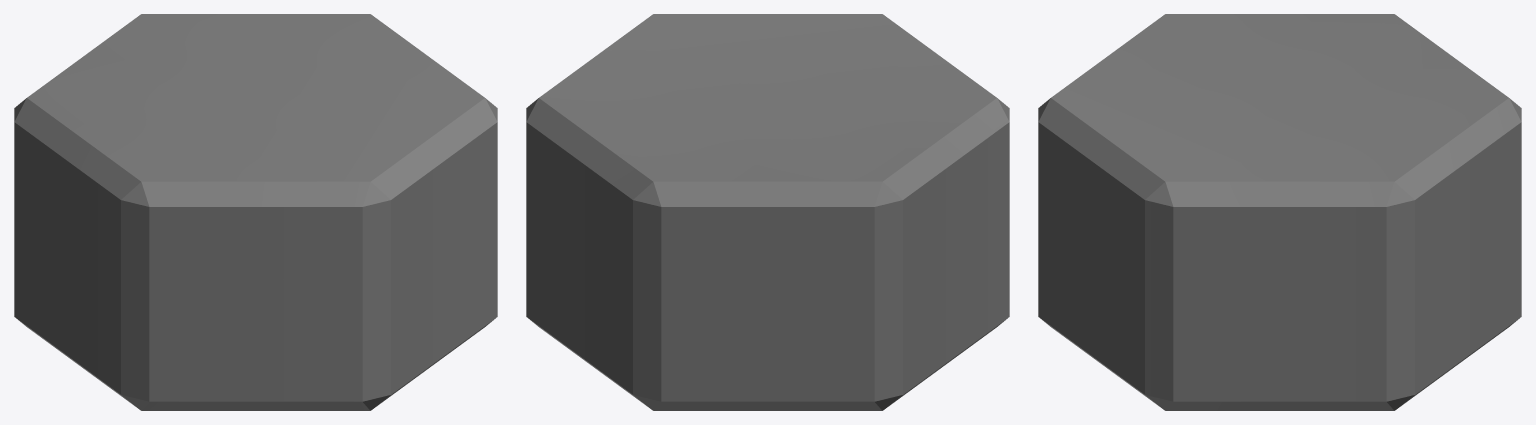
The model's file is stone.obj.
The picture shows the model from 3 angles, left to right: view 1: azimuth 30°, elevation 25°; view 2: azimuth 150°, elevation 25°; view 3: azimuth 270°, elevation 25°; orthographic projection.
Visible parts, largest first — view 1: Circle; view 2: Circle; view 3: Circle.
Boxes of the visible parts, x1=… form: Circle: x1=14, y1=14, x2=497, y2=410; Circle: x1=526, y1=14, x2=1009, y2=410; Circle: x1=1038, y1=14, x2=1521, y2=410.
Size of the model in its own units: 1.73 by 1.01 by 1.92.
